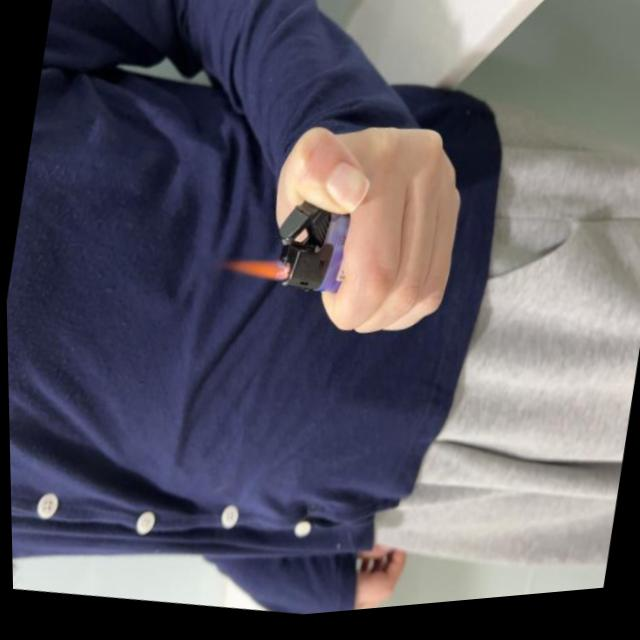Fire: (221, 256, 290, 294)
